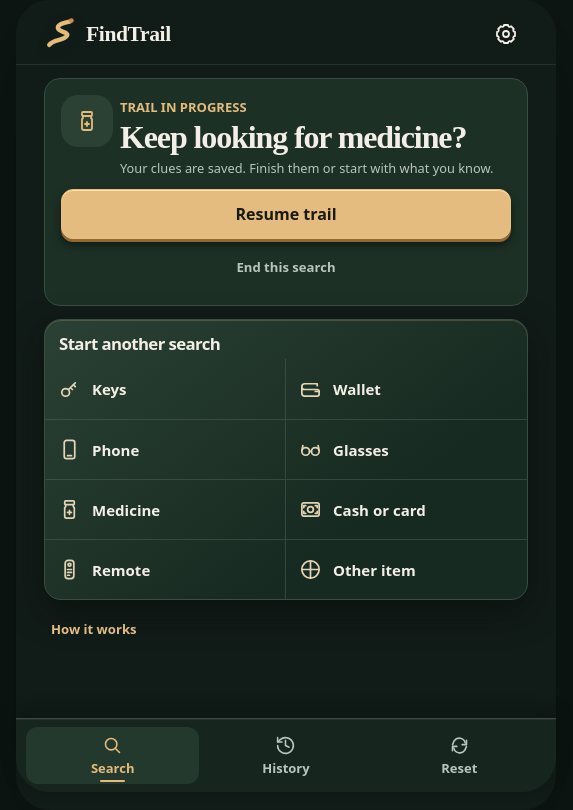
Test: search improvements › keeps essential medicine guidance on a quick start
Click the button "Resume trail" at (286, 214), box [61, 190, 511, 240]
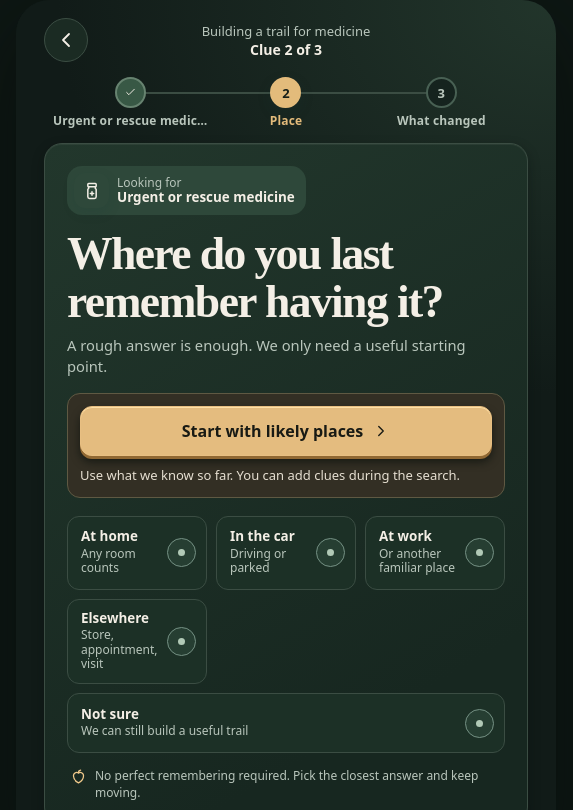
Click the button "Start with likely places" at (286, 431), box [80, 406, 492, 456]
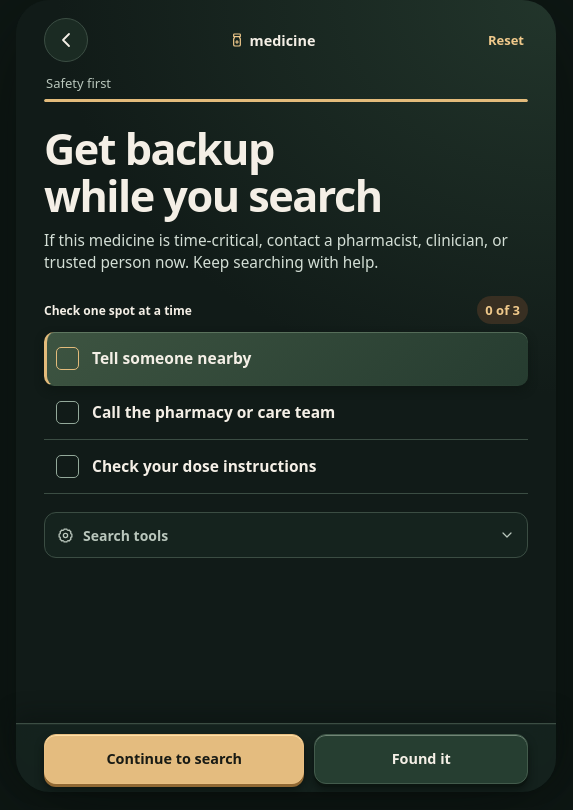
Result: the heading "Get backup while you search" is shown at [44, 119, 382, 225]
